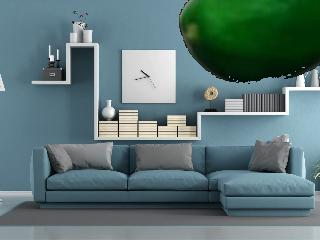lime: (180, 0, 320, 83)
